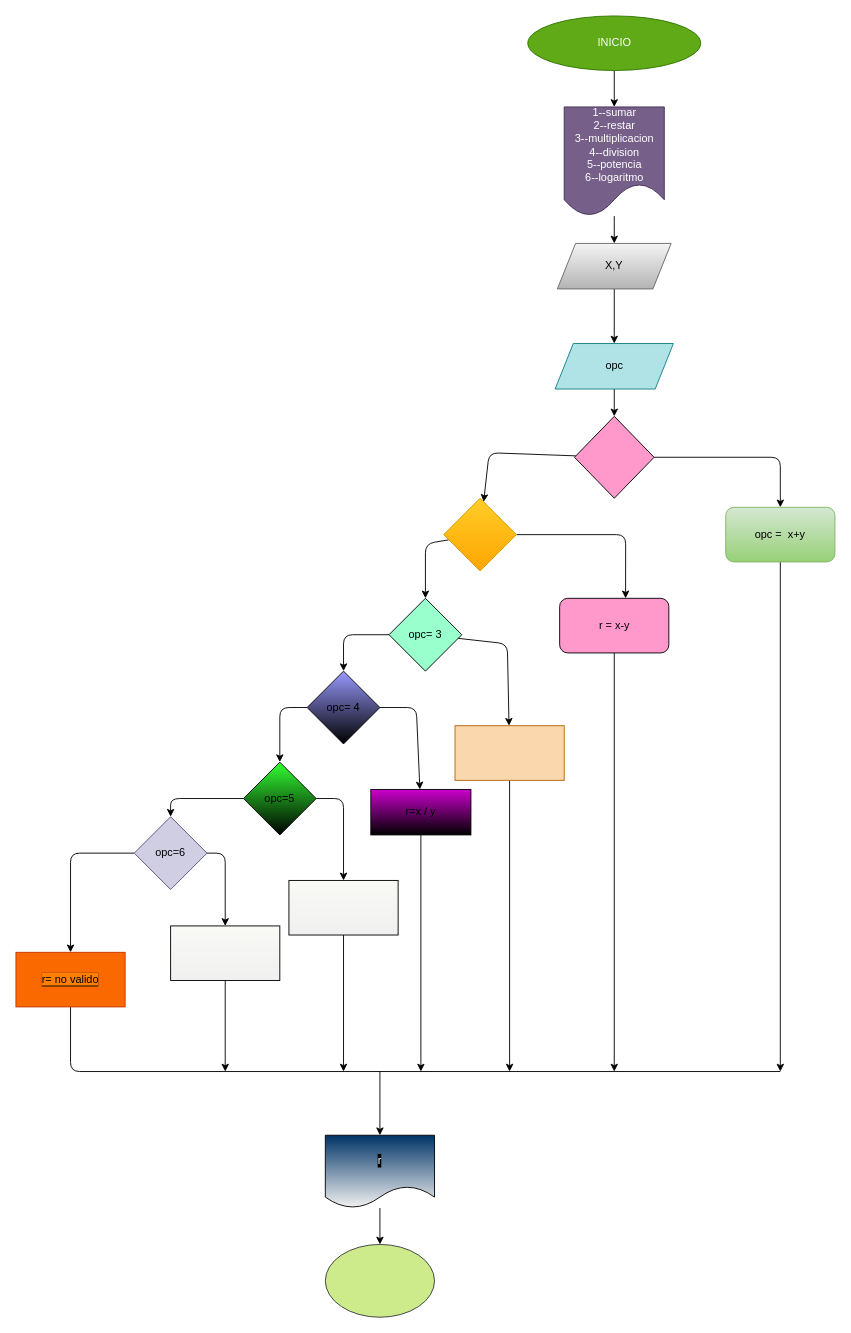
This 851x1333 diagram has some shape labels left out. Here are the shapes that lost their labels. From the top down, the centre of each, then its label:
At (614,456): "opc= 1".
At (479,534): "opc= 2".
At (509,752): "r=x * y".
At (343,907): "r=x ^ y".
At (225,953): "r=logxy".
At (379,1280): "fin".
